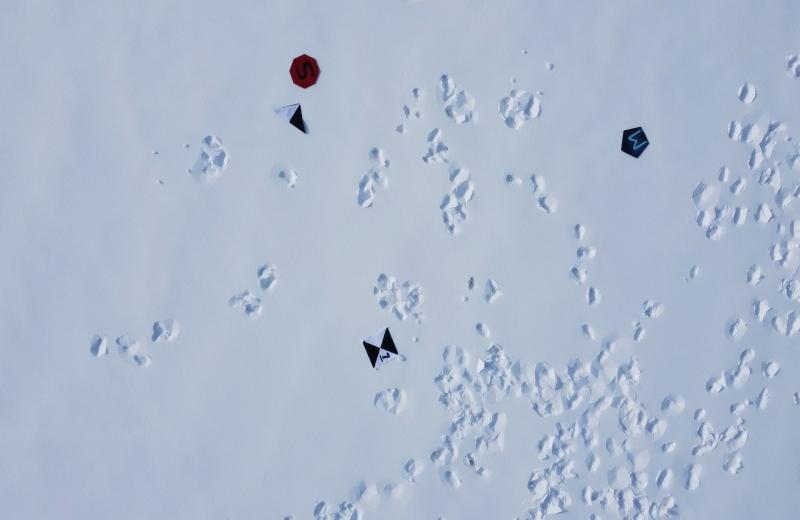Octagon: (288, 51, 320, 89)
Pentagon: (620, 126, 649, 159)
